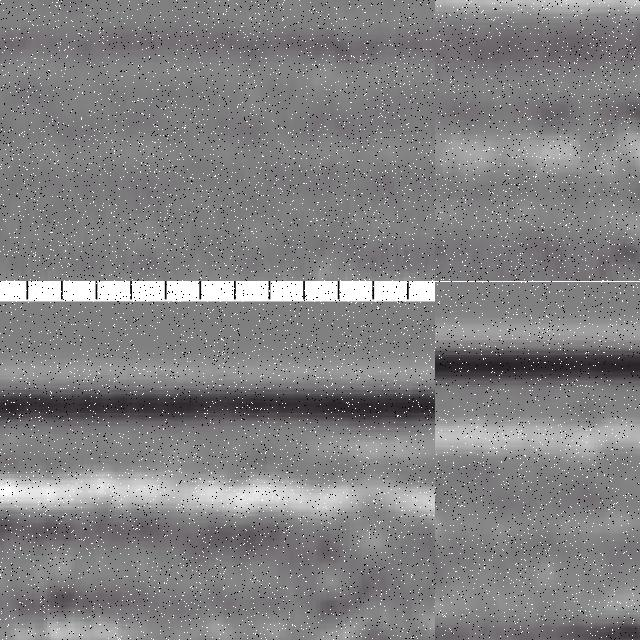crack: (1, 460, 19, 640)
